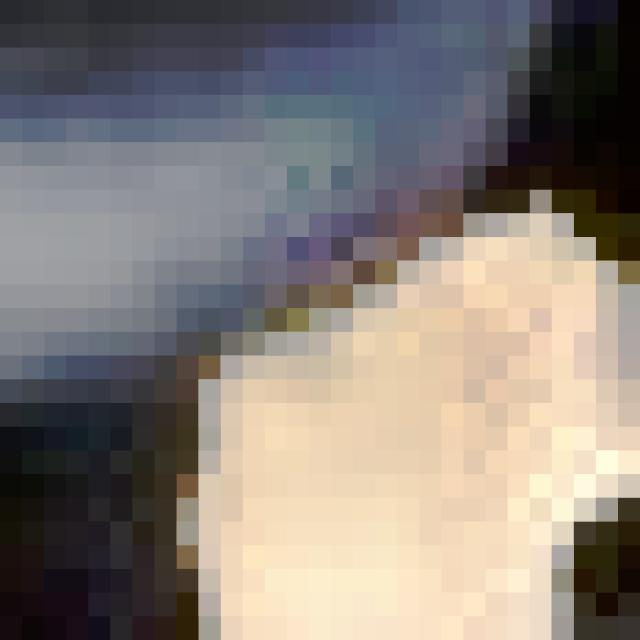arms: (110, 0, 640, 640)
